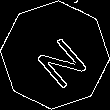N_NW: (23, 23, 87, 87)
